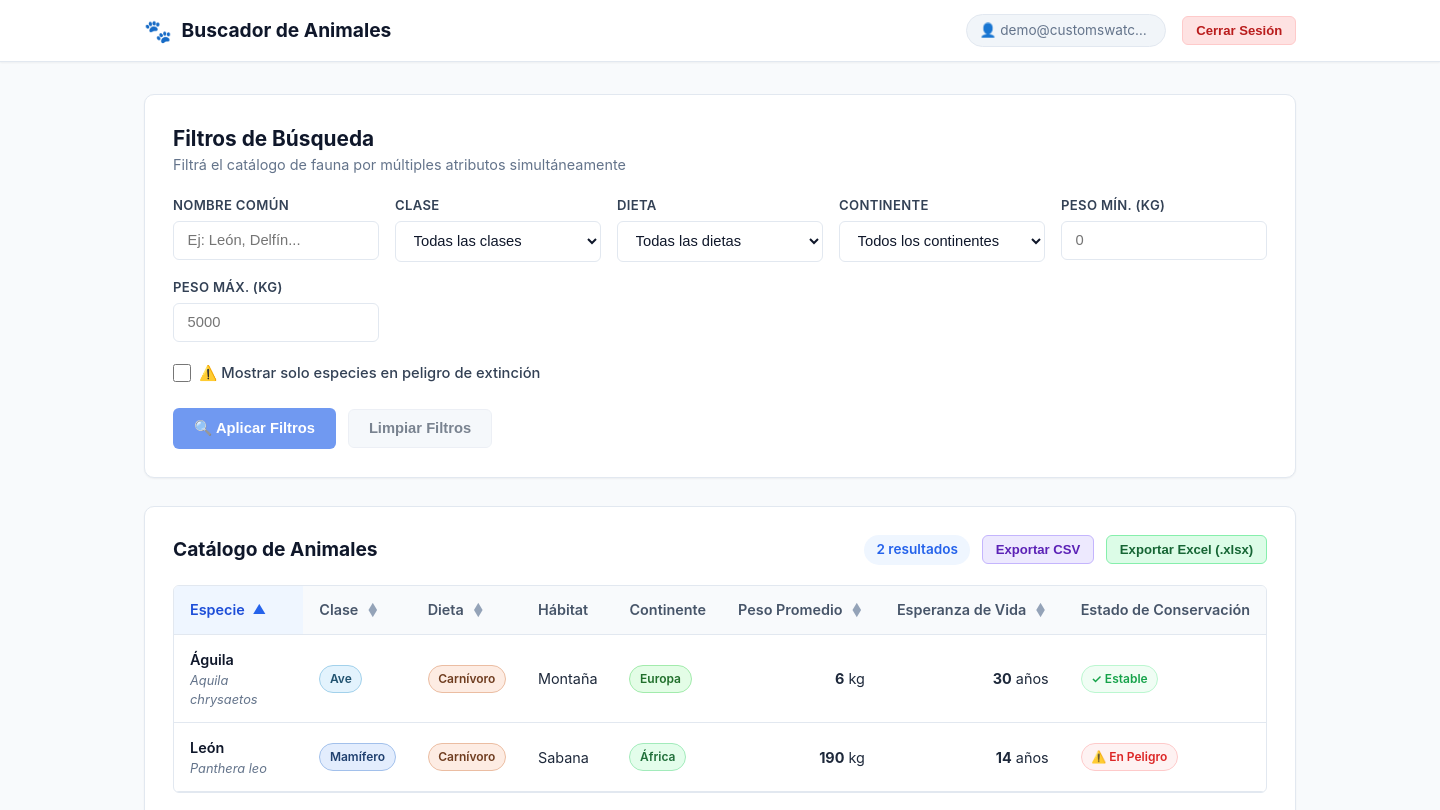
Scenario: buscador protegido › conserva los cambios pendientes cuando falla una búsqueda
Expected: the text "León" is shown, [190, 739, 224, 756]
In the field labelled "Nombre común": (276, 240) [173, 221, 379, 260], type "león"
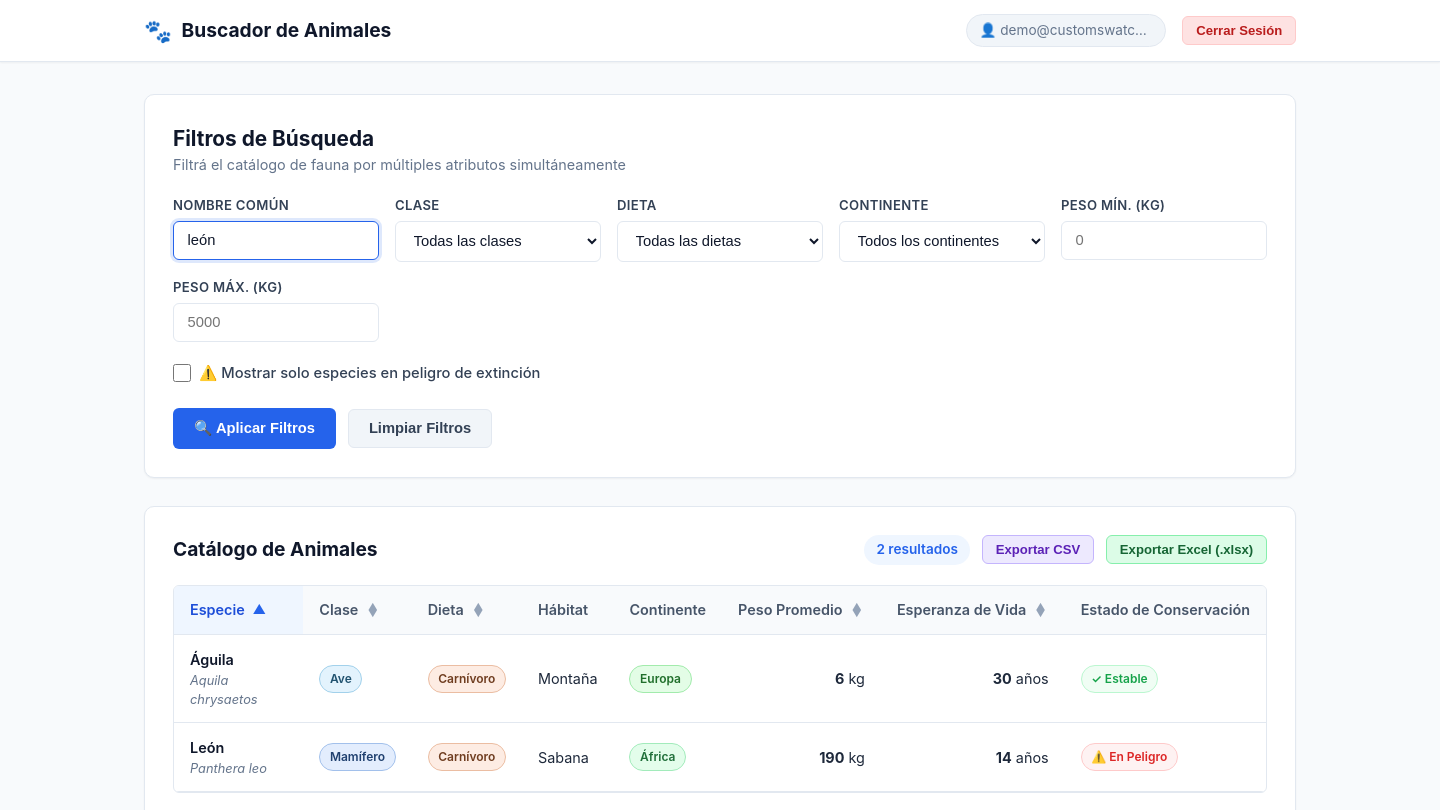
Click the button "🔍 Aplicar Filtros": (254, 428) [173, 408, 336, 449]
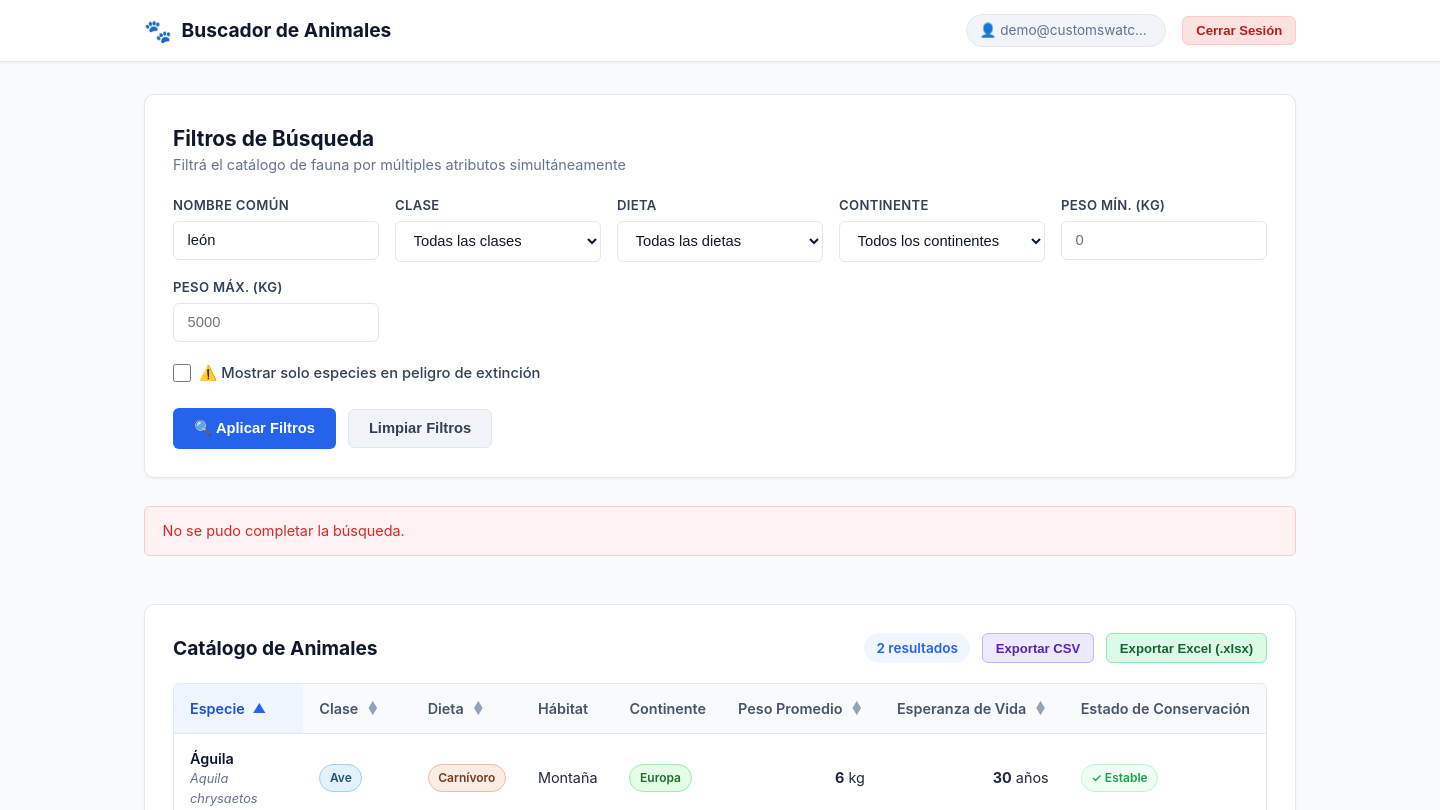
Expected: the button "🔍 Aplicar Filtros" is enabled, [173, 408, 336, 449]
Expected: the button "Limpiar Filtros" is enabled, [348, 409, 492, 448]
Expected: the message shows "No se pudo completar la búsqueda", [163, 522, 405, 539]
